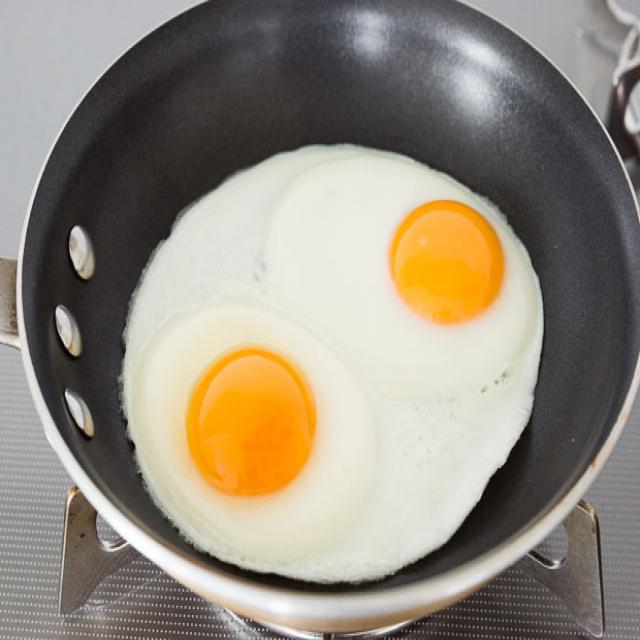Fried Egg: (123, 146, 542, 584)
